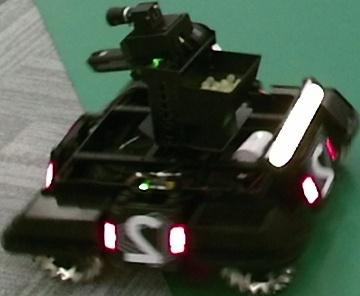armor_2: (103, 222, 185, 254)
back_2: (309, 135, 335, 198)
left_2: (116, 211, 172, 268)
light: (268, 78, 325, 167)
